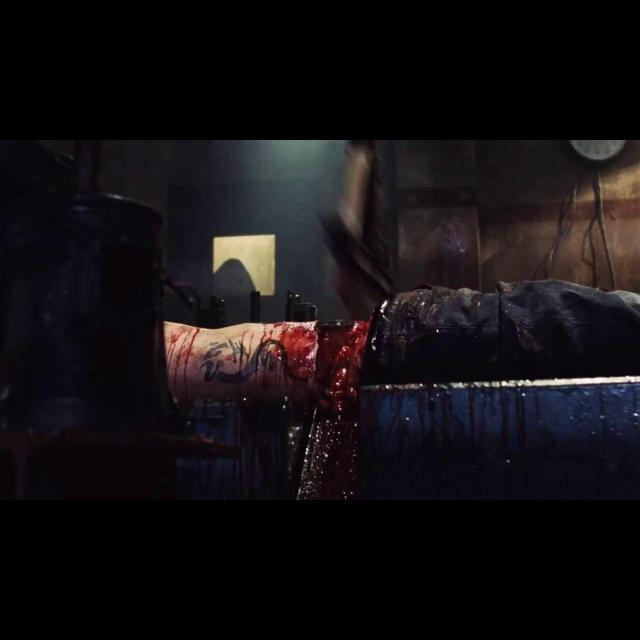blood: (164, 321, 370, 499), (358, 381, 595, 499), (363, 286, 447, 384)
